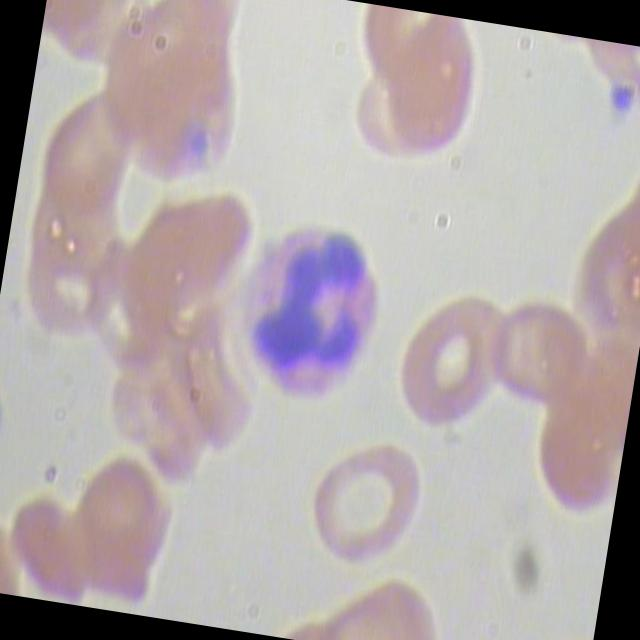Platelets: (603, 77, 640, 126), (0, 391, 10, 442)
RBC: (295, 425, 447, 589), (386, 290, 520, 444), (54, 449, 180, 604), (28, 85, 142, 242), (374, 10, 488, 166), (473, 289, 602, 416)
WBC: (197, 194, 404, 422)
